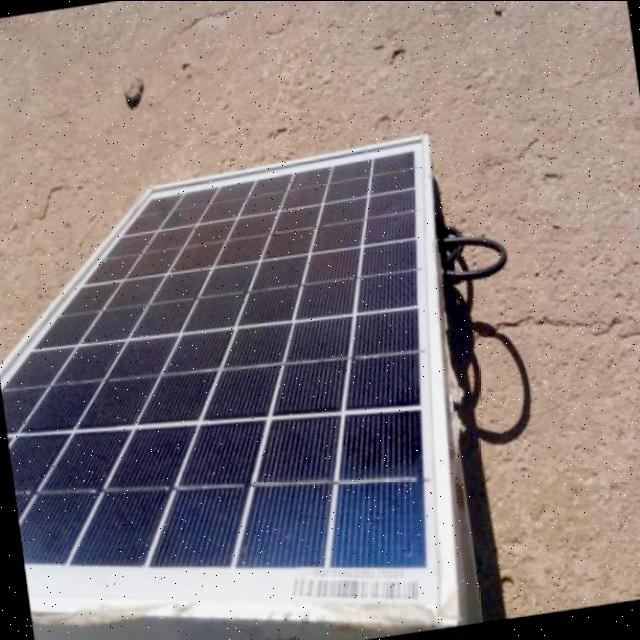Normal Solar Panel: (0, 142, 483, 640)
